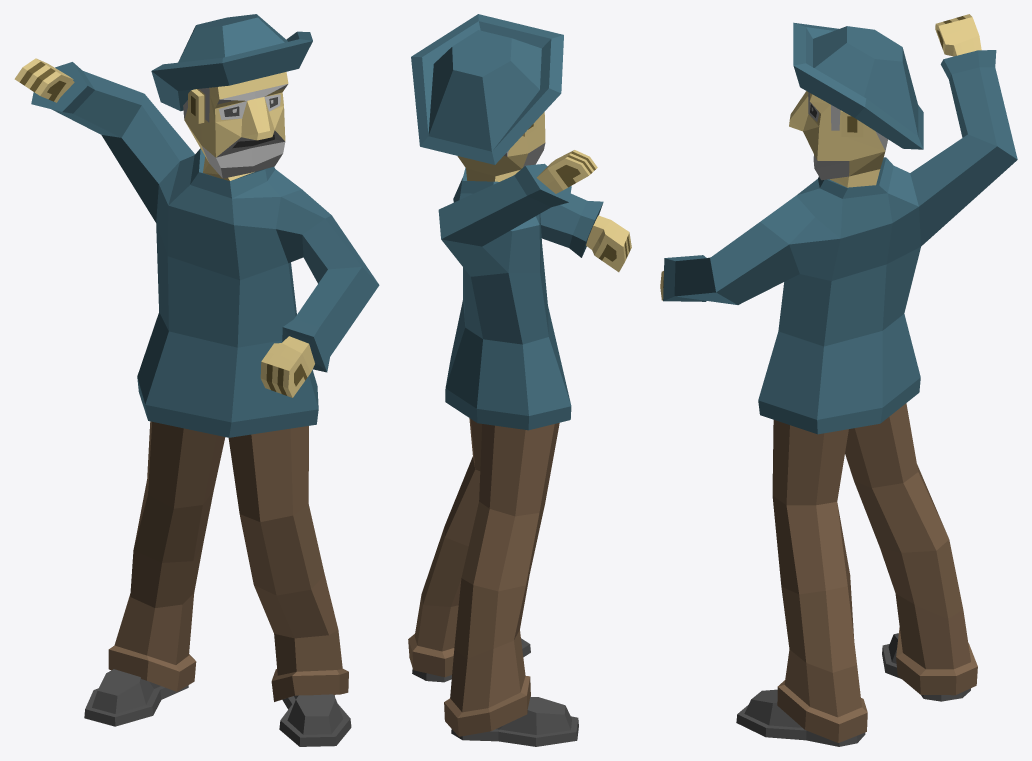
Rendered from Fisherman.fbx.
3 renders of one model, left to right at view 1: azimuth 30°, elevation 25°; view 2: azimuth 150°, elevation 25°; view 3: azimuth 270°, elevation 25°, orthographic. The views are drawn at different scales.
Visible parts, largest first — view 1: Circle.002; view 2: Circle.002; view 3: Circle.002.
Boxes of the visible parts, x1,y1,x2,y2 form: Circle.002: [14, 14, 379, 746]; Circle.002: [408, 14, 631, 746]; Circle.002: [660, 14, 1017, 746].
Bounding box in the file's own units: 1.75 × 4.48 × 2.16.
